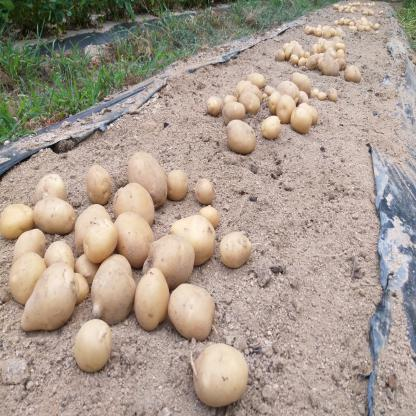potato: (184, 343, 268, 415), (22, 262, 84, 354), (91, 252, 150, 329), (158, 272, 220, 338), (129, 266, 176, 346), (115, 168, 168, 238), (203, 222, 262, 280), (134, 227, 192, 286), (36, 177, 86, 242), (107, 209, 162, 268), (166, 209, 220, 262), (71, 319, 114, 379), (138, 142, 174, 206), (81, 218, 117, 280), (86, 156, 128, 209), (220, 115, 262, 163), (204, 83, 232, 121), (235, 86, 268, 118), (257, 112, 285, 148), (231, 100, 255, 127), (294, 106, 313, 136)
